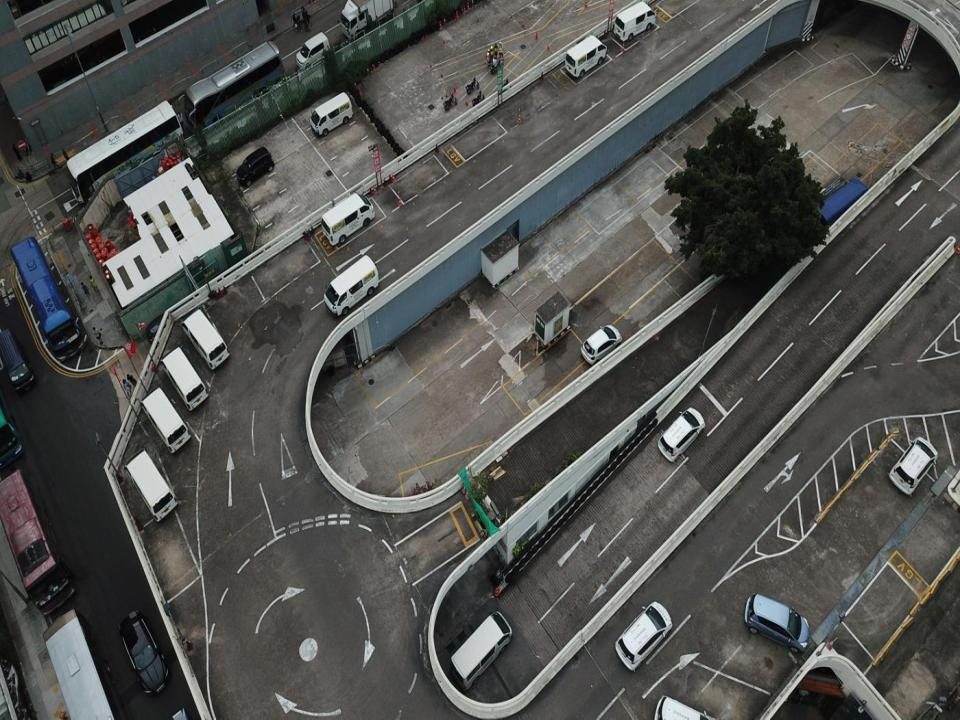bus: (63, 100, 180, 204), (0, 470, 73, 608), (184, 38, 287, 132), (11, 234, 84, 364), (40, 611, 118, 719)
car: (449, 610, 513, 692), (745, 576, 813, 650), (614, 601, 674, 674), (119, 610, 171, 694), (893, 426, 935, 497), (658, 408, 706, 460), (651, 695, 723, 719), (580, 324, 622, 364), (235, 146, 273, 187)
truck: (338, 0, 394, 41)
van: (123, 448, 179, 524), (321, 255, 380, 320), (142, 388, 192, 454), (320, 190, 376, 247), (181, 308, 231, 370), (162, 348, 210, 410), (4, 322, 36, 389), (309, 91, 353, 138), (564, 34, 609, 78), (613, 0, 655, 38), (293, 30, 330, 72)
